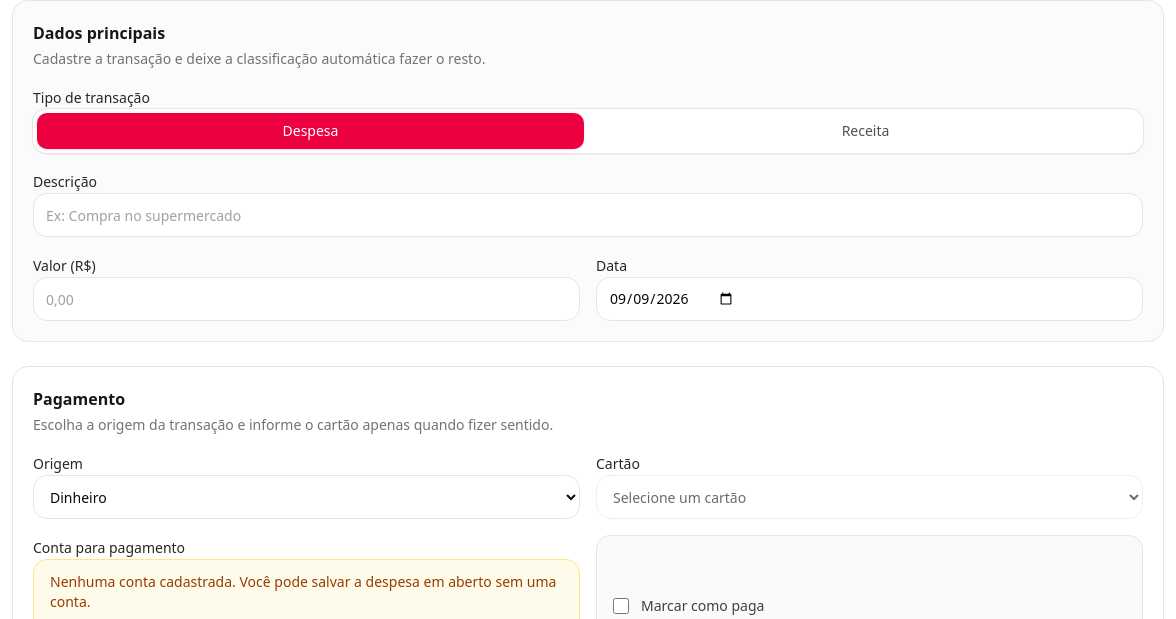
Test: TransactionCreateForm › guides the user to create an account when income mode has no active accounts
Click the button "Receita" at [866, 131], box [592, 113, 1139, 149]
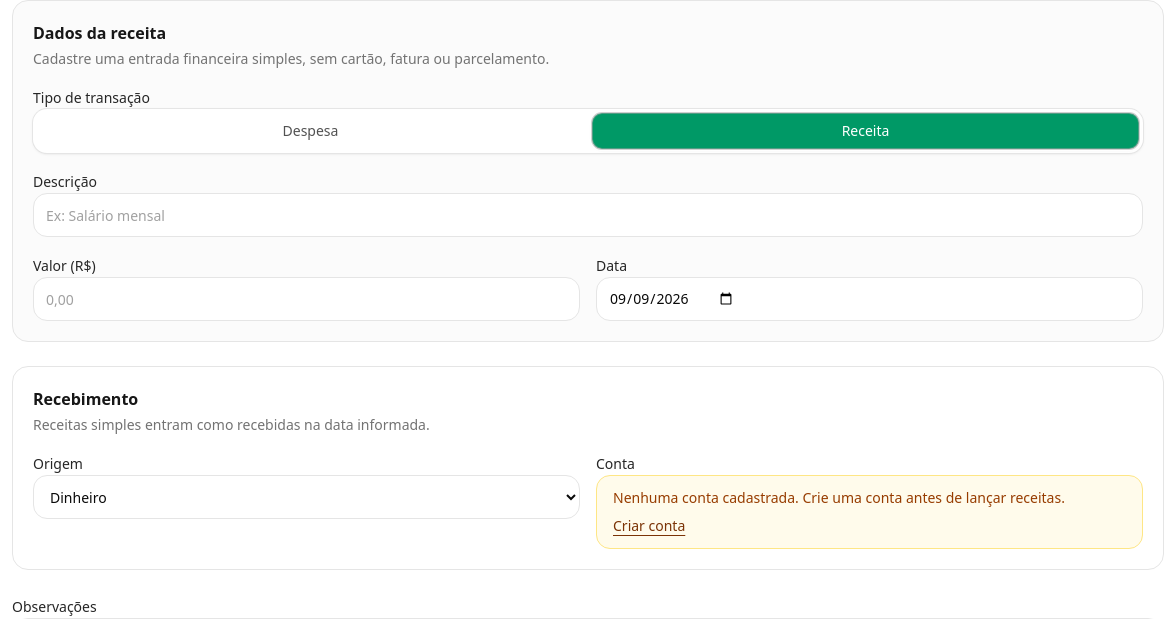
Now the text "Nenhuma conta cadastrada. Crie uma conta antes de lançar receitas." is shown, box [613, 488, 1126, 508]
